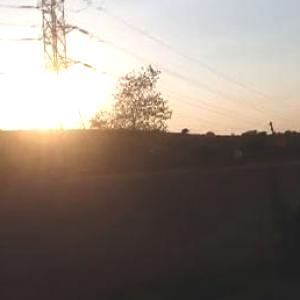follow: (279, 157, 300, 299)
